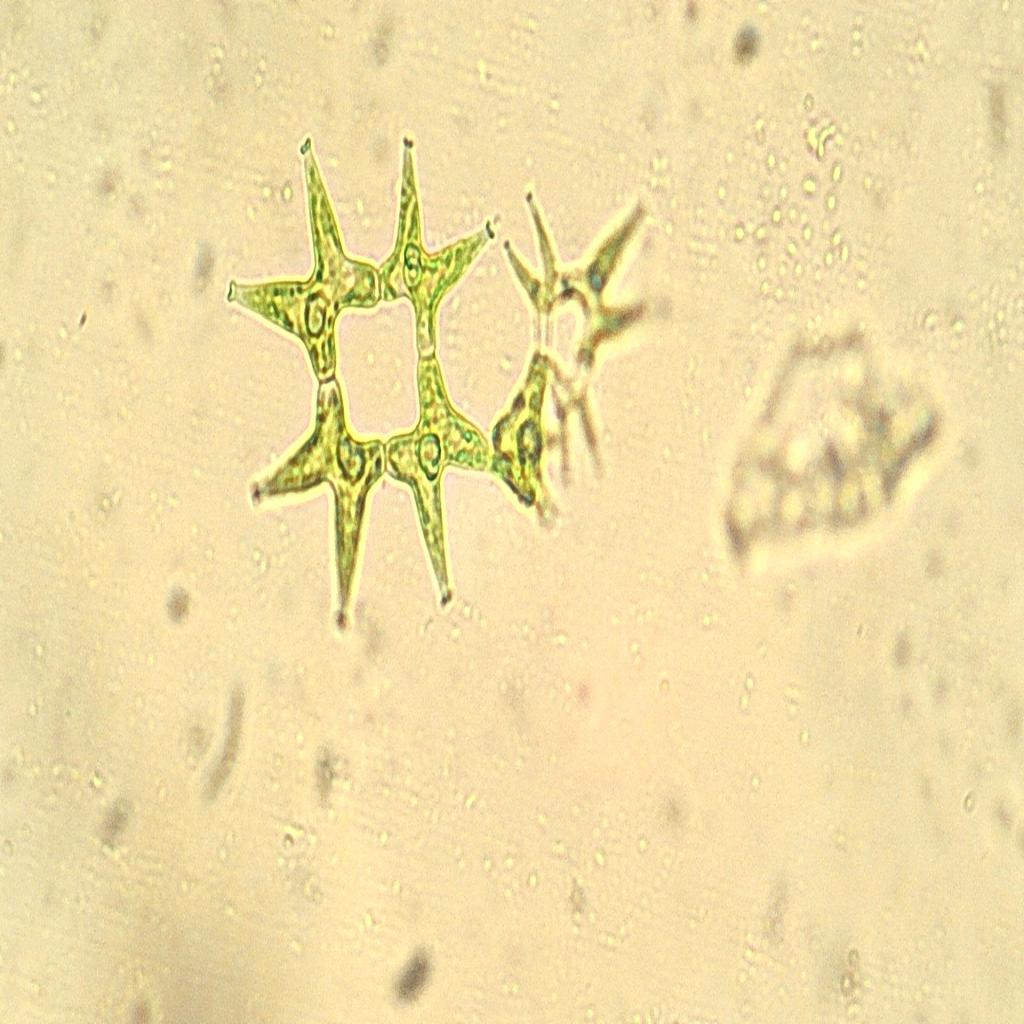Pediastrum_CO: (218, 102, 520, 649)
